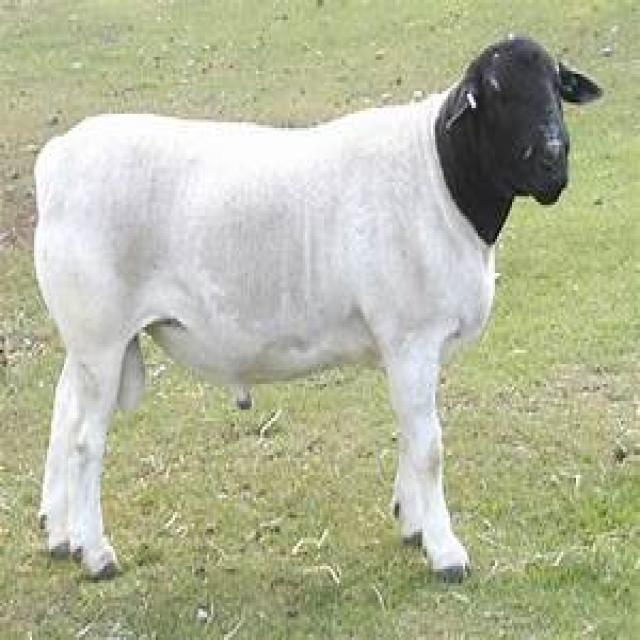goat: (32, 34, 606, 583)
